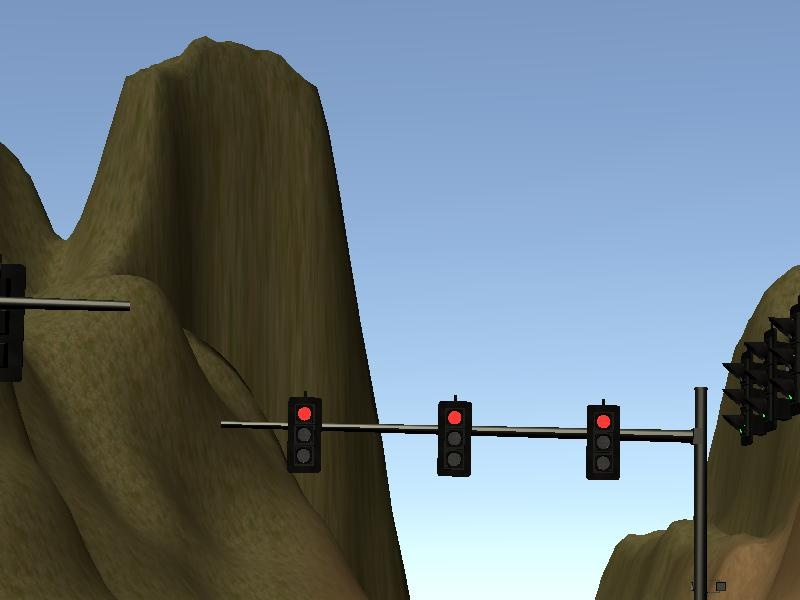red: (580, 397, 625, 486), (433, 395, 476, 483), (283, 392, 327, 477)
